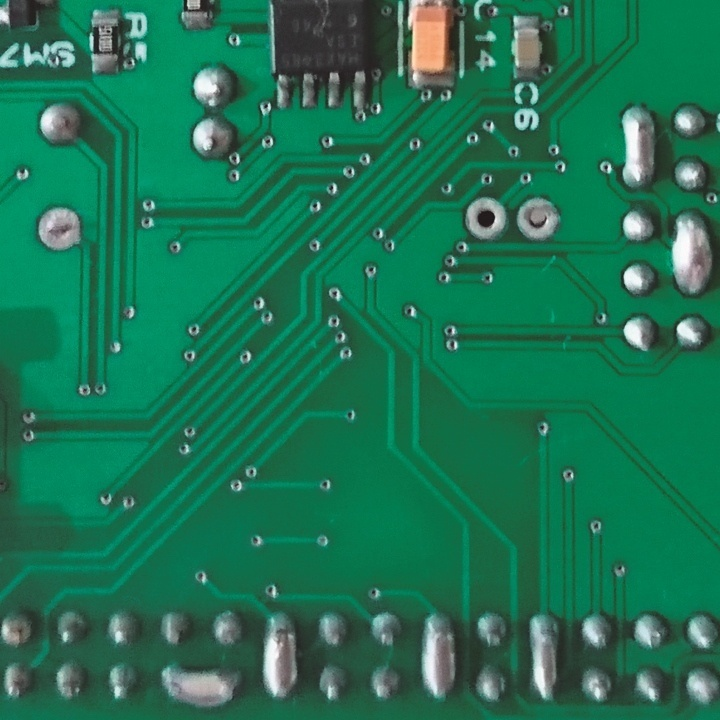F: (33, 203, 87, 255), (512, 194, 562, 245), (464, 196, 507, 241)
P: (255, 611, 303, 704), (668, 208, 716, 300), (154, 659, 244, 708), (420, 603, 461, 705), (524, 610, 561, 706), (621, 104, 660, 194)
